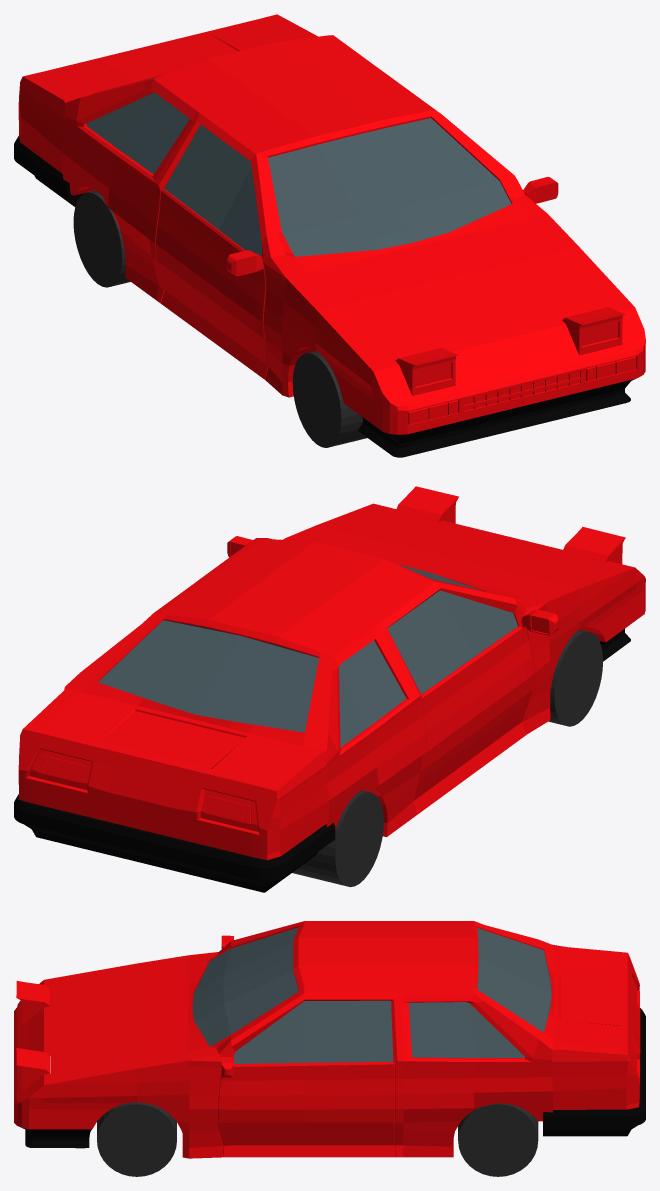
The model's file is ToyotaHighPolyTUTORIAL.fbx.
3 views of the same model, one above another, from view 1: azimuth 30°, elevation 25°; view 2: azimuth 150°, elevation 25°; view 3: azimuth 270°, elevation 25° (orthographic). The views are drawn at different scales.
Visible parts, largest first — view 1: Car_Collider; view 2: Car_Collider; view 3: Car_Collider.
Part boxes in pixels (x1,y1,x2,y2): Car_Collider: (14,14,645,457); Car_Collider: (14,486,645,892); Car_Collider: (14,921,645,1176).
Bounding box in the file's own units: 146 × 90.57 × 296.
